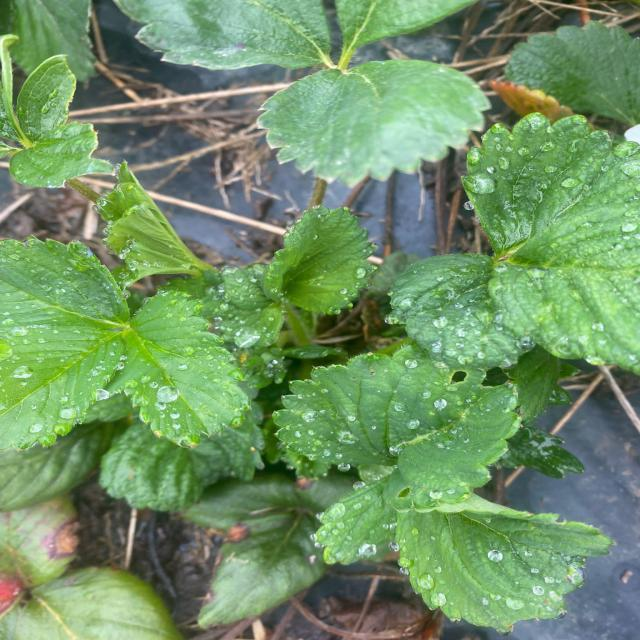flower: (272, 350, 618, 640), (108, 0, 486, 190), (398, 116, 640, 387), (0, 228, 255, 468)
